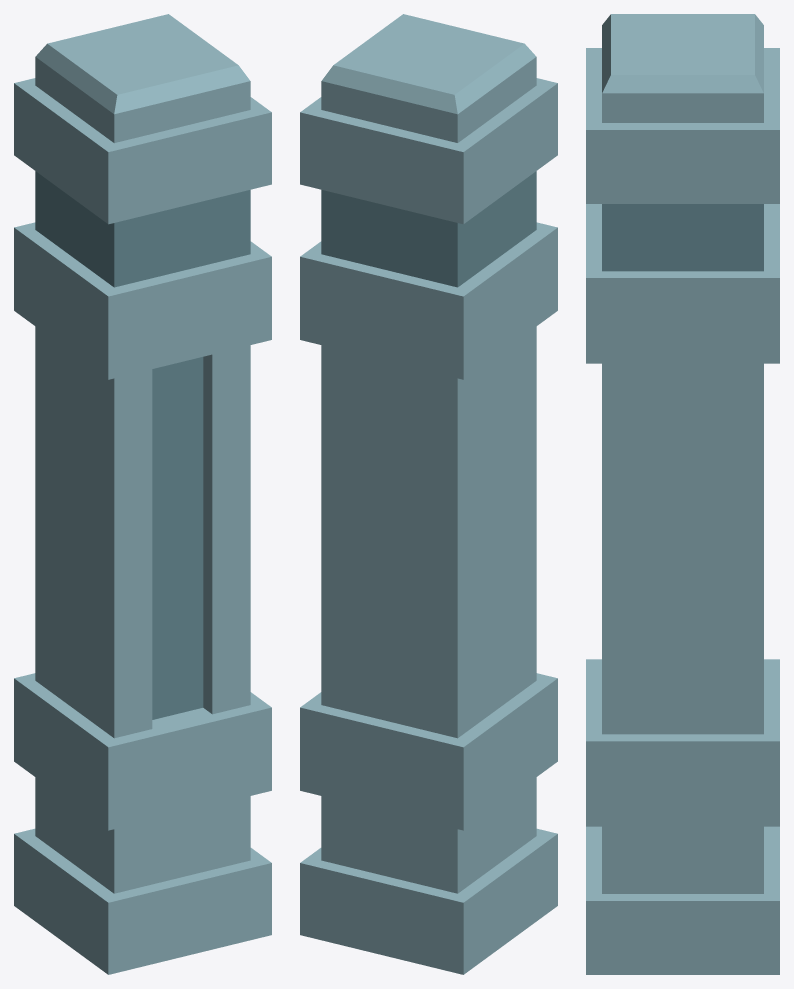
The model's file is pillarSquare.fbx.
3 views of the same model, side by side, from view 1: azimuth 30°, elevation 25°; view 2: azimuth 150°, elevation 25°; view 3: azimuth 270°, elevation 25° (orthographic). The views are drawn at different scales.
Visible parts, largest first — view 1: pillarSquare; view 2: pillarSquare; view 3: pillarSquare.
Part boxes in pixels (bbox=[...]): pillarSquare: bbox=[14, 14, 271, 974]; pillarSquare: bbox=[300, 14, 557, 974]; pillarSquare: bbox=[586, 14, 779, 974].
Bounding box in the file's own units: 2.06 × 10.44 × 2.06.
